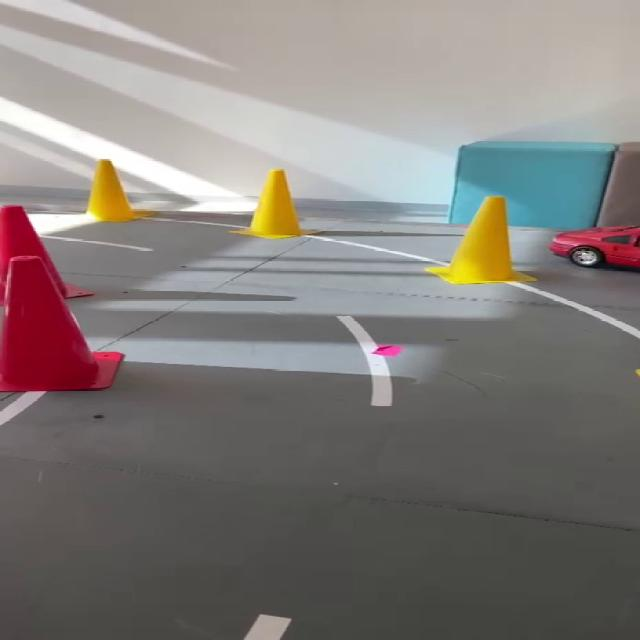Cone-red: (0, 252, 178, 404), (0, 199, 69, 315)
Cones-yellow: (418, 185, 536, 300), (234, 163, 328, 257), (62, 159, 167, 228)
